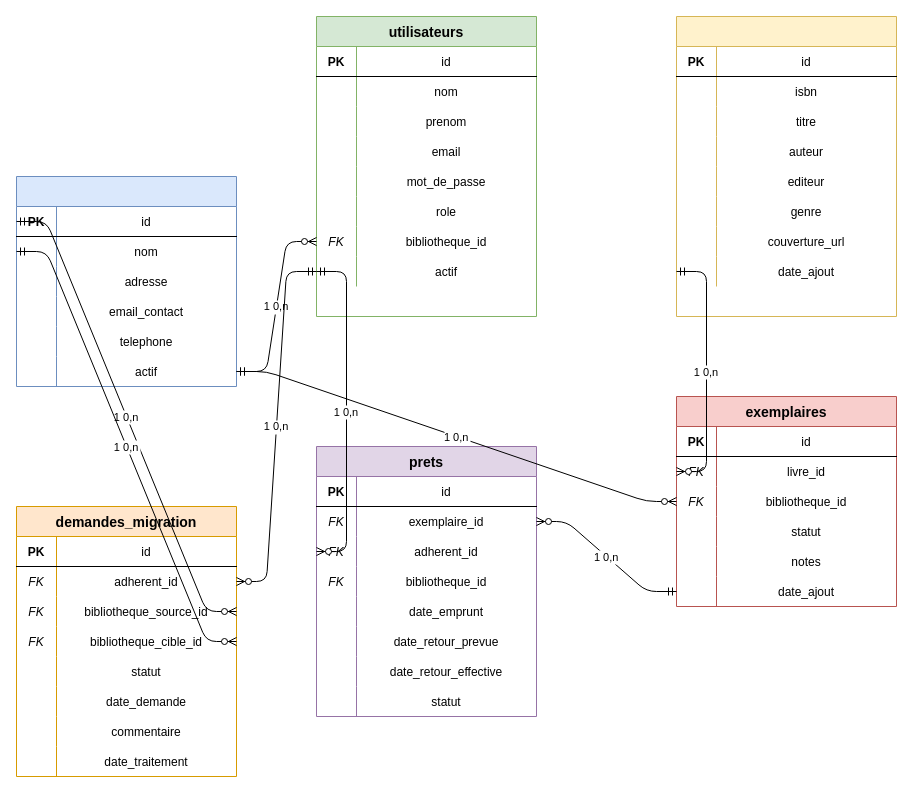
Image size: 913x793. Some labels were removed from this diagram. The box of each missing label's shape, as (x1, y1, x2, y2) in pixels:
bibliotheques: (16, 176, 236, 386)
livres: (676, 16, 896, 316)
